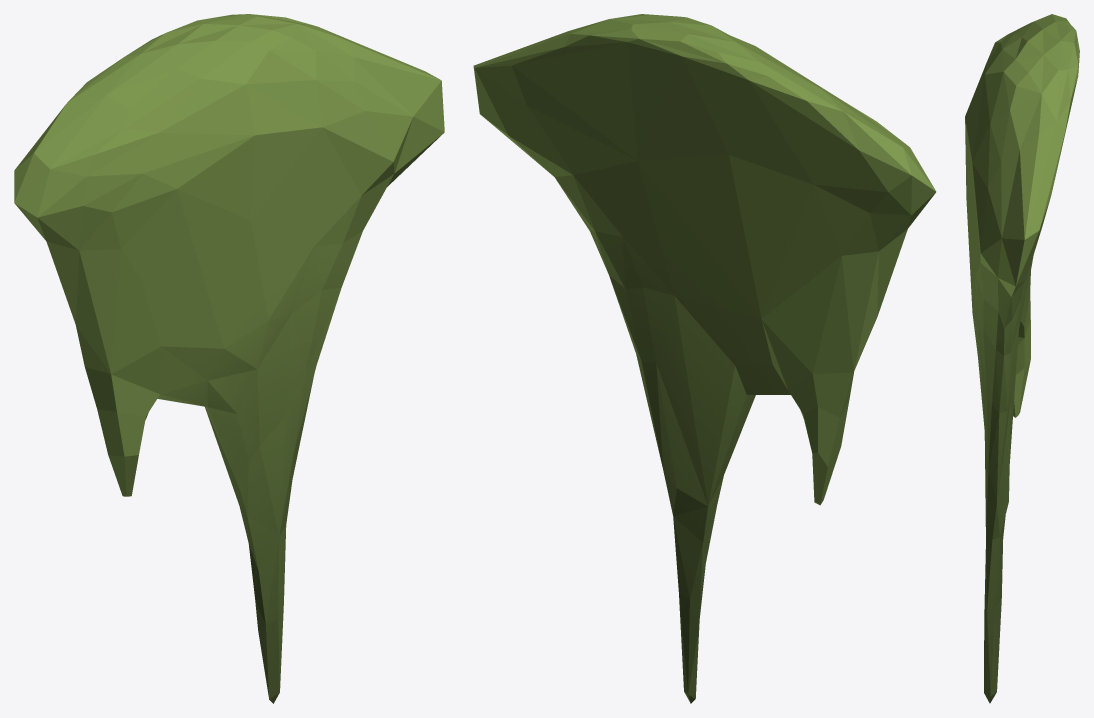
File: Jungle_HangingBush_B.fbx
The picture shows the model from 3 angles, left to right: view 1: azimuth 30°, elevation 25°; view 2: azimuth 150°, elevation 25°; view 3: azimuth 270°, elevation 25°; orthographic projection. The views are drawn at different scales.
Parts seen in each view (by area): view 1: Jungle_HangingBush_B; view 2: Jungle_HangingBush_B; view 3: Jungle_HangingBush_B.
Part boxes in pixels (bbox=[...]): Jungle_HangingBush_B: bbox=[14, 14, 444, 703]; Jungle_HangingBush_B: bbox=[473, 14, 936, 703]; Jungle_HangingBush_B: bbox=[965, 14, 1079, 703].
Size of the model in its own units: 3.51 by 5.15 by 0.8291.
Materials: 1 (1 with a texture image).
